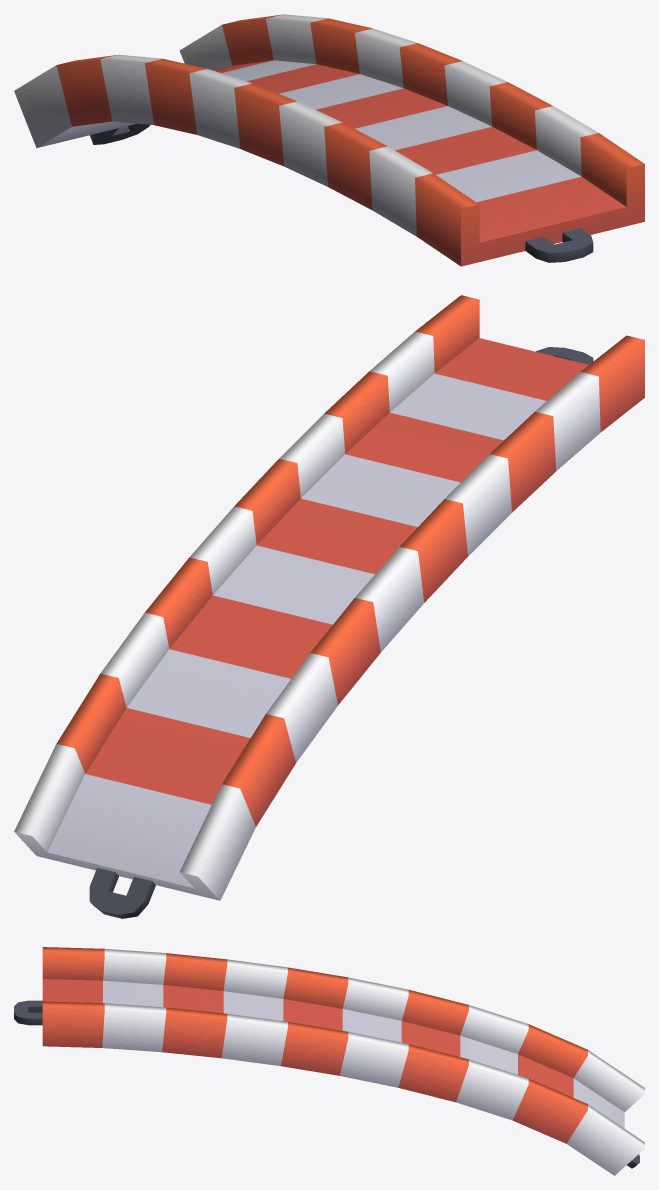
Rendered from track-striped-narrow-straight-hill-end.glb.
The picture shows the model from 3 angles, top to bottom: view 1: azimuth 30°, elevation 25°; view 2: azimuth 150°, elevation 25°; view 3: azimuth 270°, elevation 25°; orthographic projection. The views are drawn at different scales.
Parts seen in each view (by area): view 1: track-striped-narrow-straight-hill-end; view 2: track-striped-narrow-straight-hill-end; view 3: track-striped-narrow-straight-hill-end.
Boxes of the visible parts, <box> form: track-striped-narrow-straight-hill-end: <box>14,14,644,266</box>; track-striped-narrow-straight-hill-end: <box>14,295,644,918</box>; track-striped-narrow-straight-hill-end: <box>14,947,644,1175</box>.
Size of the model in its own units: 3 by 4.32 by 13.24.
Materials: 1 (1 with a texture image).
